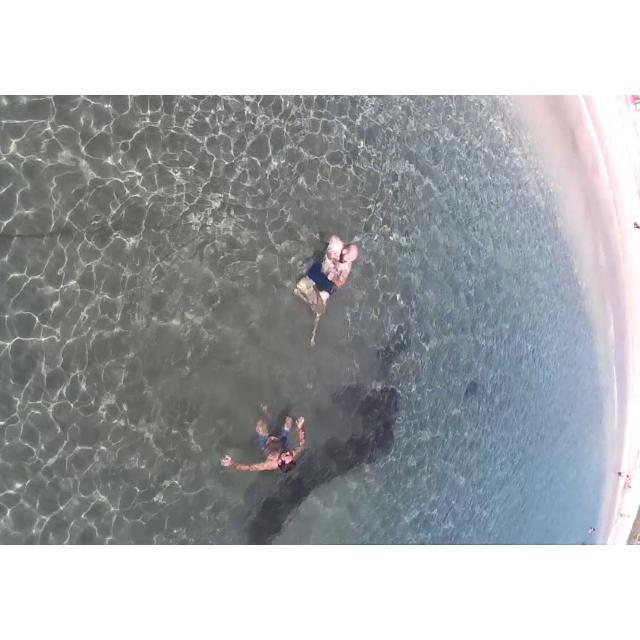human: (223, 386, 335, 487), (291, 216, 359, 354)
